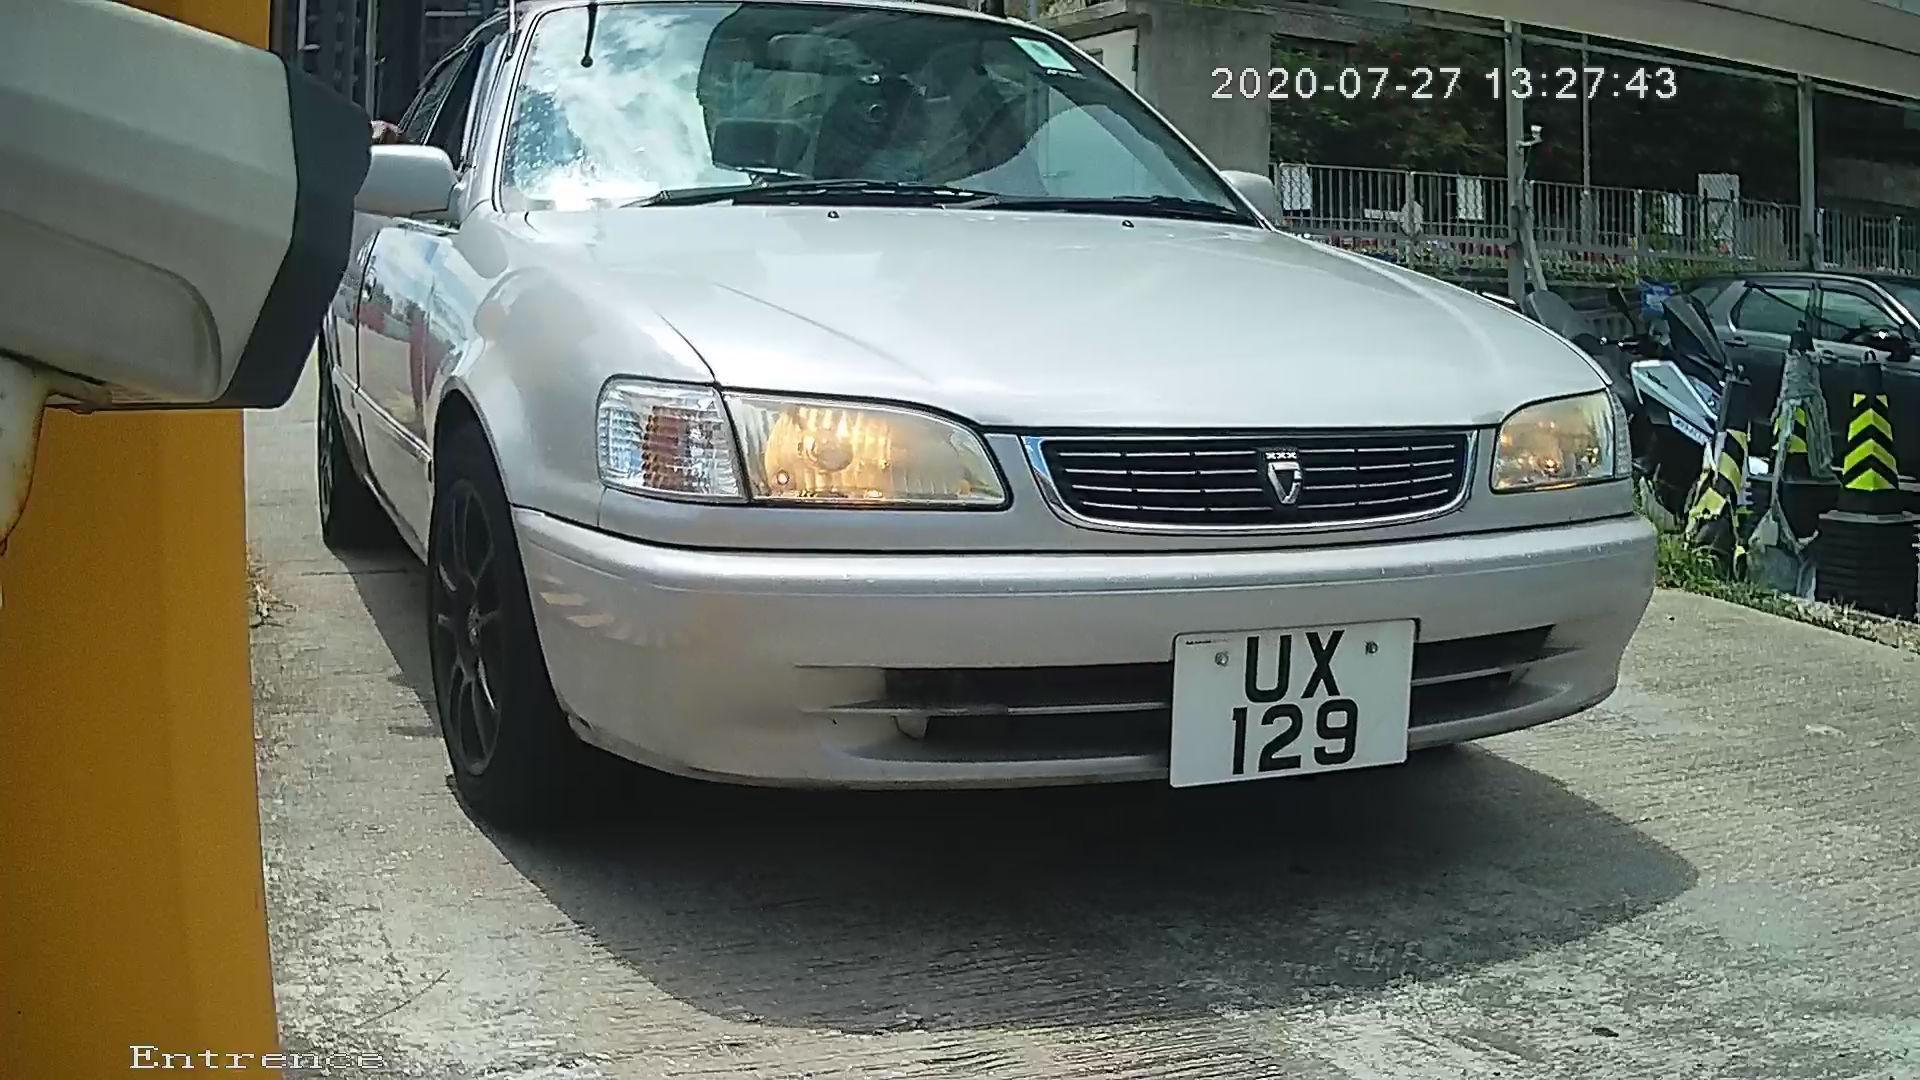License Plate: (1141, 603, 1432, 796)
